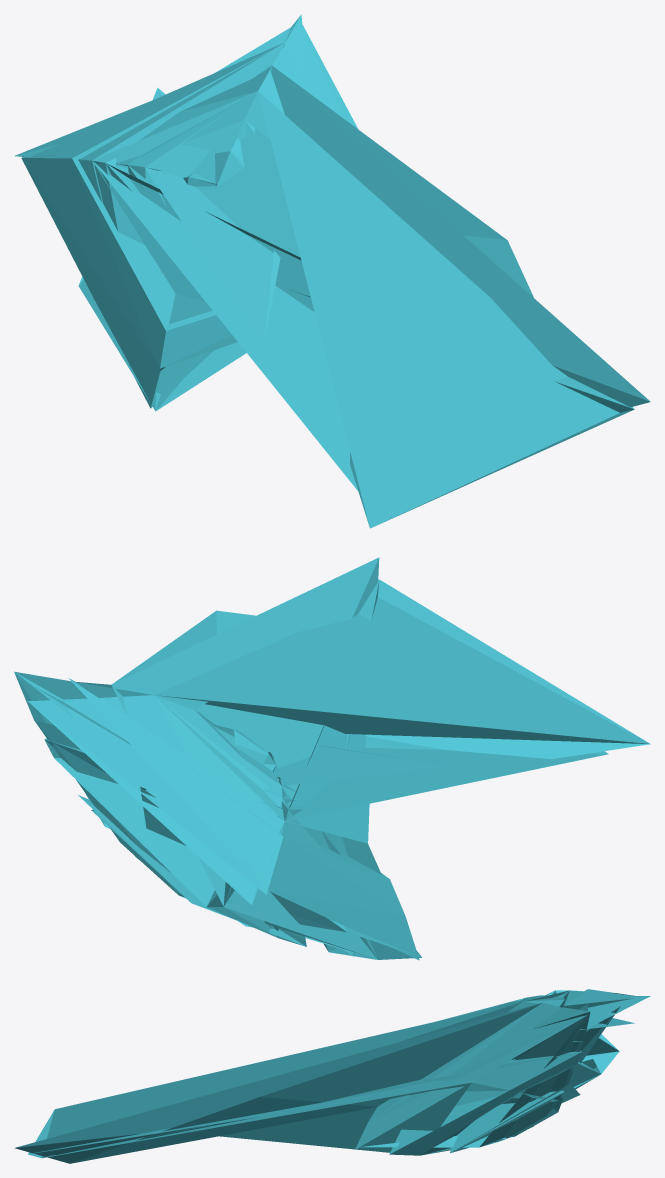
The picture shows the model from 3 angles, top to bottom: view 1: azimuth 30°, elevation 25°; view 2: azimuth 150°, elevation 25°; view 3: azimuth 270°, elevation 25°; orthographic projection. The views are drawn at different scales.
Visible parts, largest first — view 1: Renderer Node; view 2: Renderer Node; view 3: Renderer Node.
Part boxes in pixels (<box>): Renderer Node: <box>15,14,650,528</box>; Renderer Node: <box>14,557,650,960</box>; Renderer Node: <box>14,989,650,1163</box>.
Bounding box in the file's own units: 0.129 × 0.1181 × 0.3008.
Materials: 1 (1 with a texture image).
